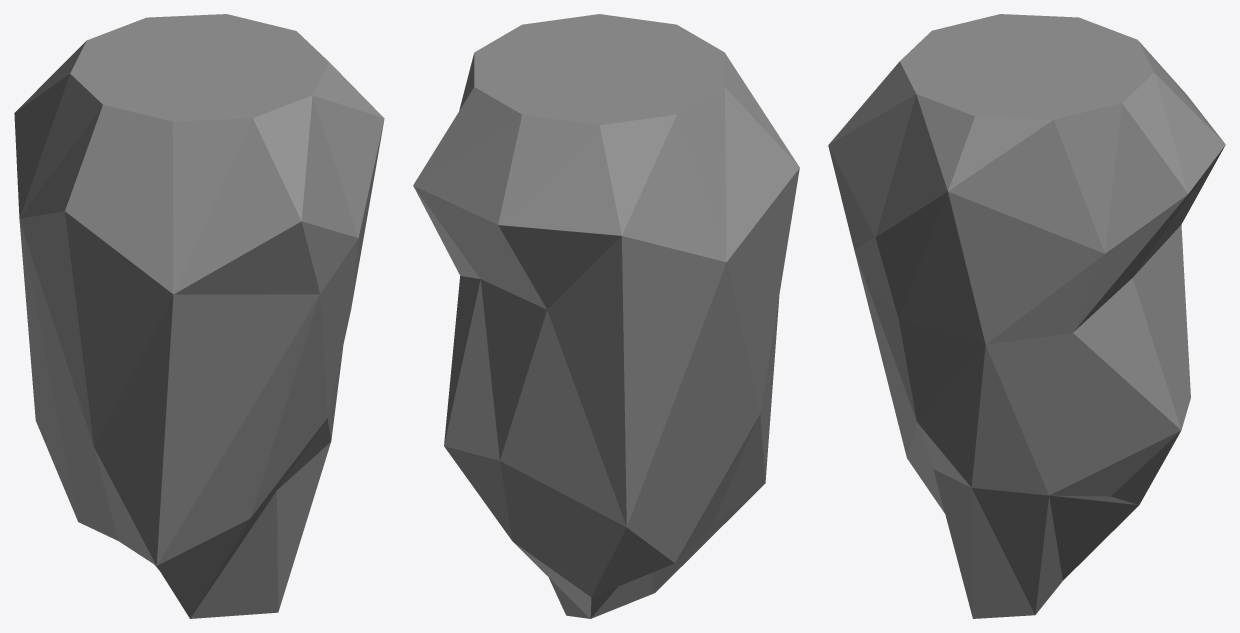
The model's file is Stalactite 3.fbx.
The picture shows the model from 3 angles, left to right: view 1: azimuth 30°, elevation 25°; view 2: azimuth 150°, elevation 25°; view 3: azimuth 270°, elevation 25°; orthographic projection. The views are drawn at different scales.
Parts seen in each view (by area): view 1: Stalactite_3; view 2: Stalactite_3; view 3: Stalactite_3.
Boxes of the visible parts, box(x1,y1,x2,y2) form: Stalactite_3: box(14, 14, 384, 618); Stalactite_3: box(413, 14, 799, 618); Stalactite_3: box(828, 14, 1225, 618).
Size of the model in its own units: 115 by 193 by 130.
Materials: 1 (1 with a texture image).
